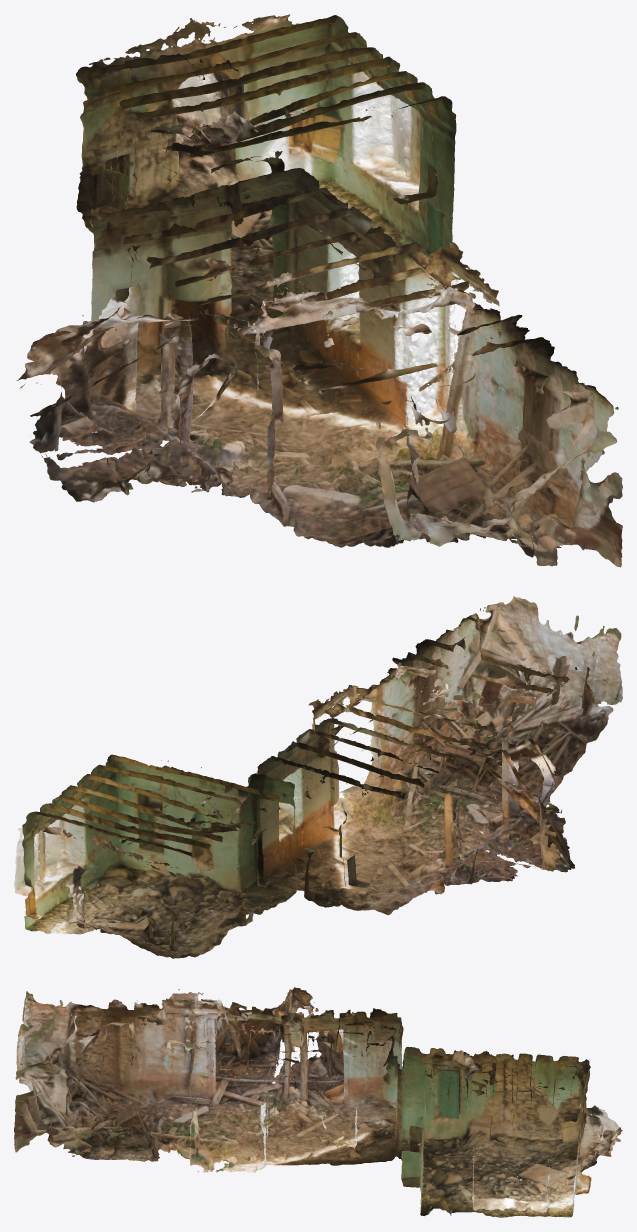
The model's file is house.glb.
The picture shows the model from 3 angles, top to bottom: view 1: azimuth 30°, elevation 25°; view 2: azimuth 150°, elevation 25°; view 3: azimuth 270°, elevation 25°; orthographic projection. The views are drawn at different scales.
Parts seen in each view (by area): view 1: Object_2; view 2: Object_2; view 3: Object_2.
Boxes of the visible parts, x1,y1,x2,y2 form: Object_2: [16, 14, 622, 567]; Object_2: [14, 596, 622, 958]; Object_2: [14, 987, 622, 1217].
Bounding box in the file's own units: 29.15 × 9.97 × 45.07.
1 material, 1 textured.
